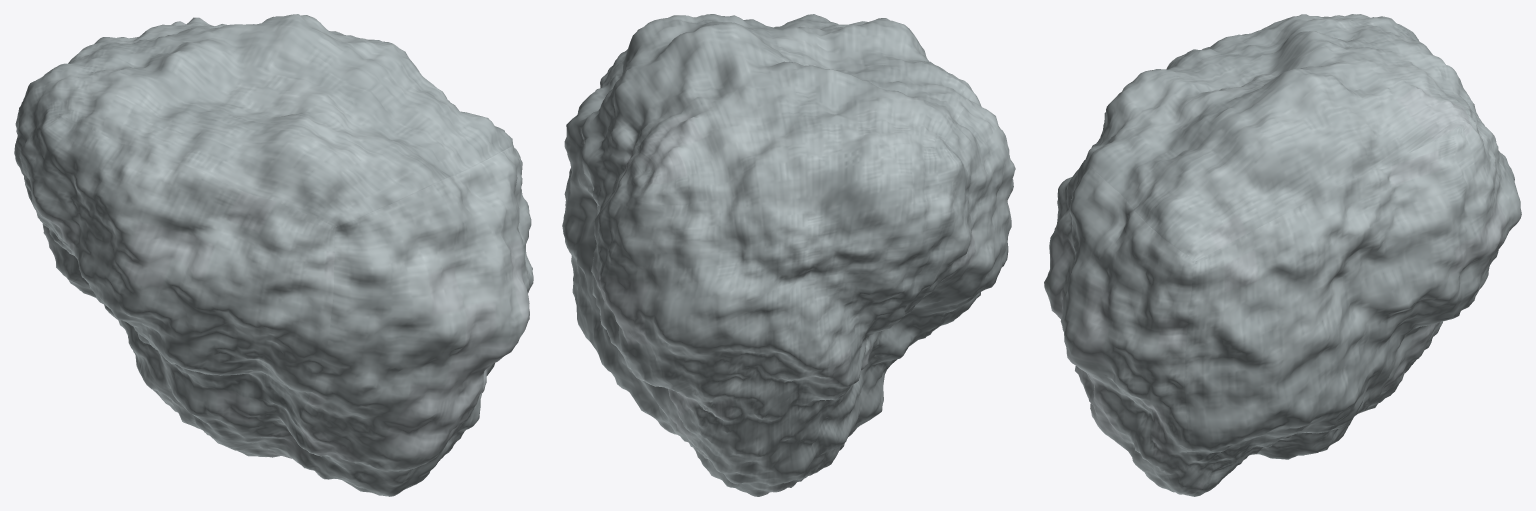
File: Niquel Nuevo.glb
3 views of the same model, side by side, from view 1: azimuth 30°, elevation 25°; view 2: azimuth 150°, elevation 25°; view 3: azimuth 270°, elevation 25° (orthographic). The views are drawn at different scales.
Parts seen in each view (by area): view 1: Cube; view 2: Cube; view 3: Cube.
Boxes of the visible parts, bbox=[...] form: Cube: bbox=[14, 14, 533, 496]; Cube: bbox=[562, 14, 1015, 496]; Cube: bbox=[1044, 14, 1521, 496].
Size of the model in its own units: 1.6 by 1.59 by 1.71.
1 material, 1 textured.
